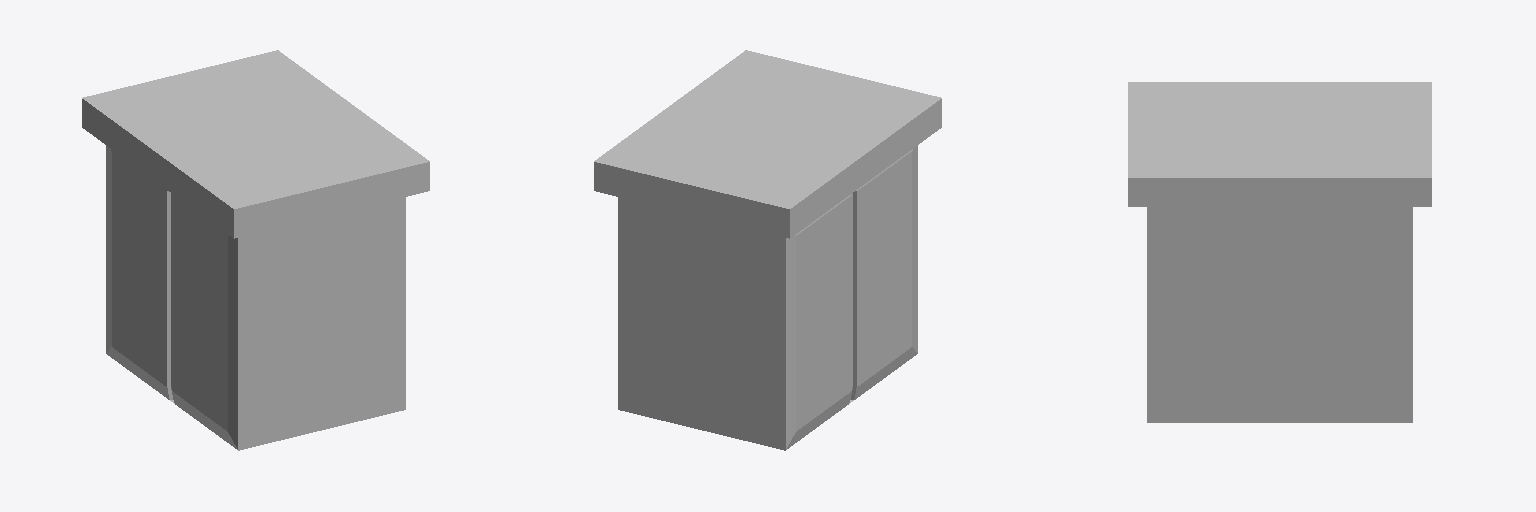
The model's file is SideDrawers.obj.
3 views of the same model, side by side, from view 1: azimuth 30°, elevation 25°; view 2: azimuth 150°, elevation 25°; view 3: azimuth 270°, elevation 25° (orthographic).
Visible parts, largest first — view 1: SideDrawers; view 2: SideDrawers; view 3: SideDrawers.
Boxes of the visible parts, x1=… form: SideDrawers: x1=82, y1=50, x2=429, y2=450; SideDrawers: x1=594, y1=50, x2=941, y2=450; SideDrawers: x1=1128, y1=82, x2=1431, y2=422.
Bounding box in the file's own units: 0.8585 × 1.06 × 1.15.